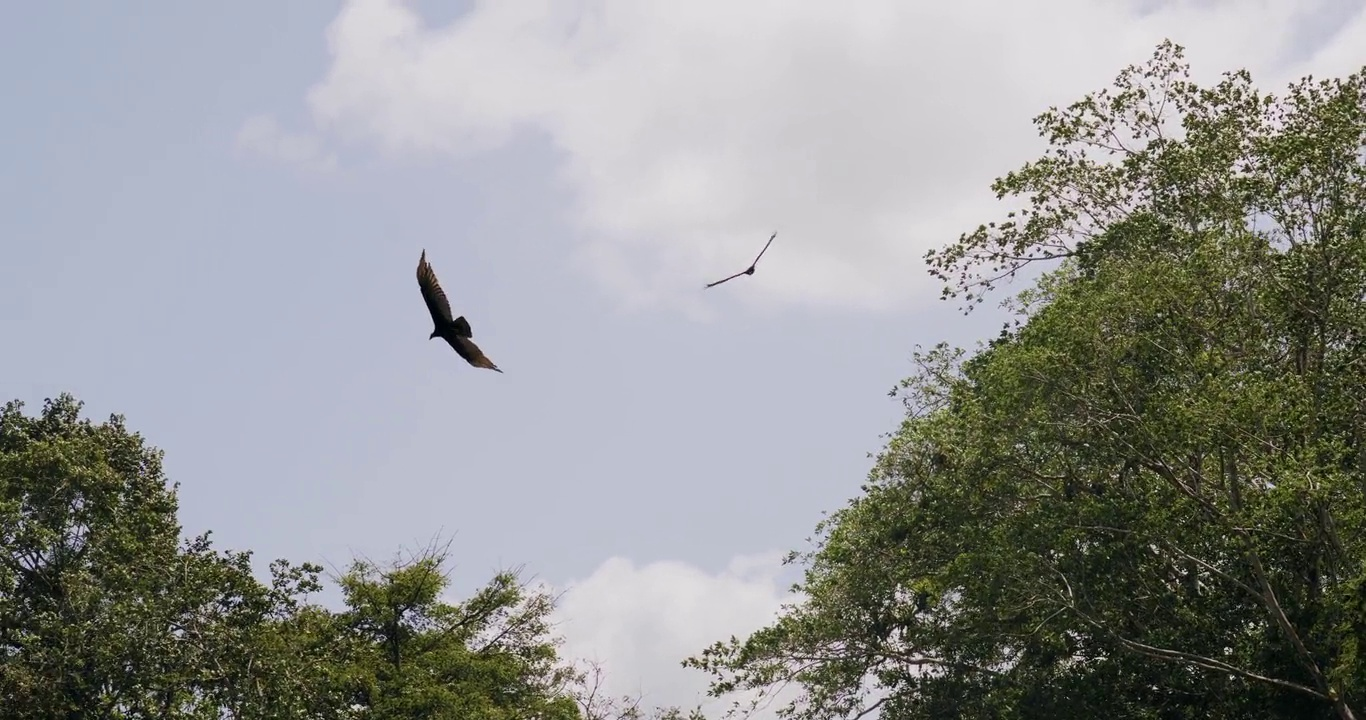bird: (415, 254, 501, 371), (706, 237, 777, 284)
